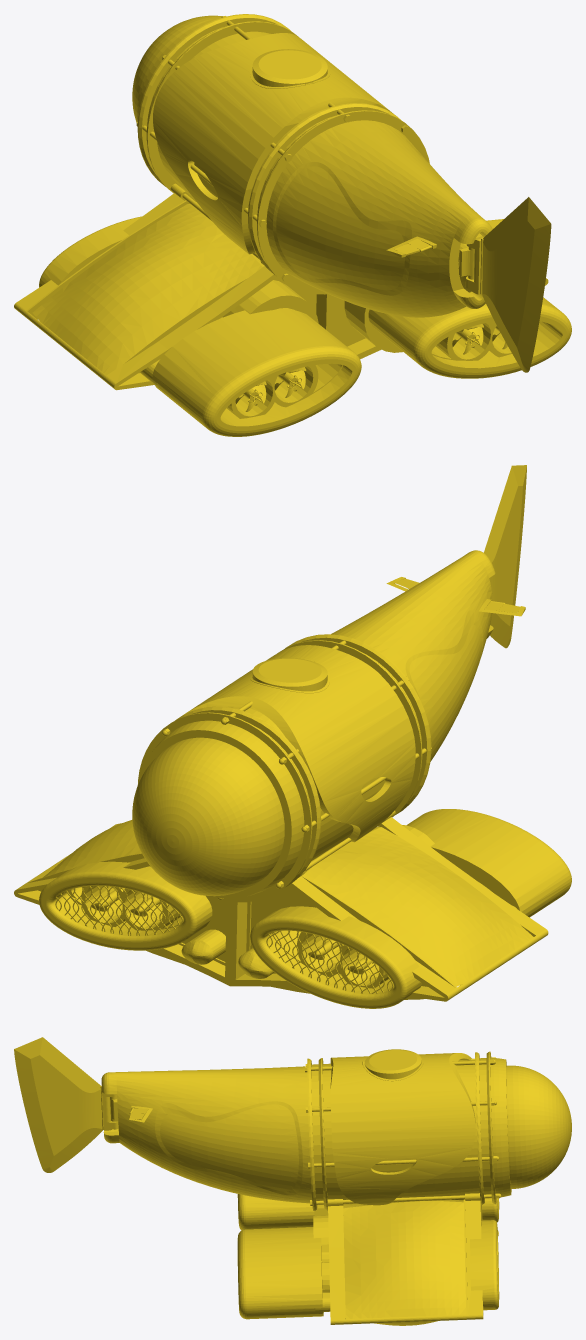
File: Tsub.glb
The picture shows the model from 3 angles, top to bottom: view 1: azimuth 30°, elevation 25°; view 2: azimuth 150°, elevation 25°; view 3: azimuth 270°, elevation 25°; orthographic projection. The views are drawn at different scales.
Parts seen in each view (by area): view 1: TSubermsible Assembly; view 2: TSubermsible Assembly; view 3: TSubermsible Assembly.
Part boxes in pixels (bbox=[...]): TSubermsible Assembly: bbox=[14, 14, 571, 436]; TSubermsible Assembly: bbox=[14, 465, 571, 1008]; TSubermsible Assembly: bbox=[14, 1037, 571, 1325].
Bounding box in the file's own units: 70.88 × 48.95 × 104.
